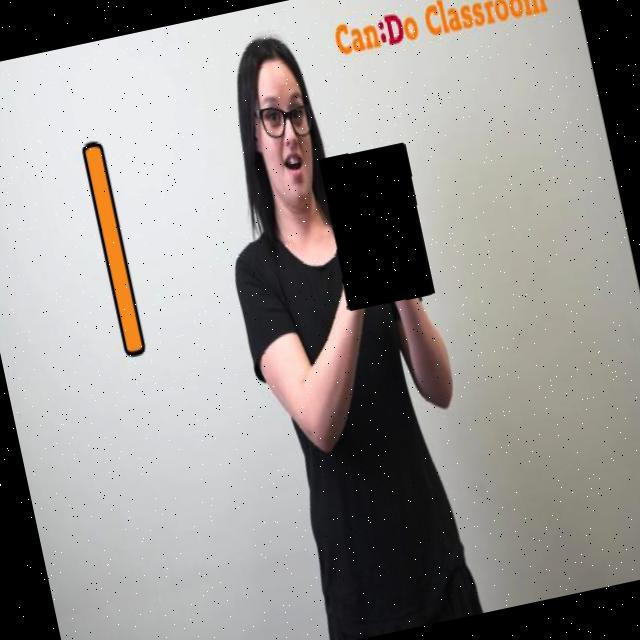I: (317, 142, 437, 313)
